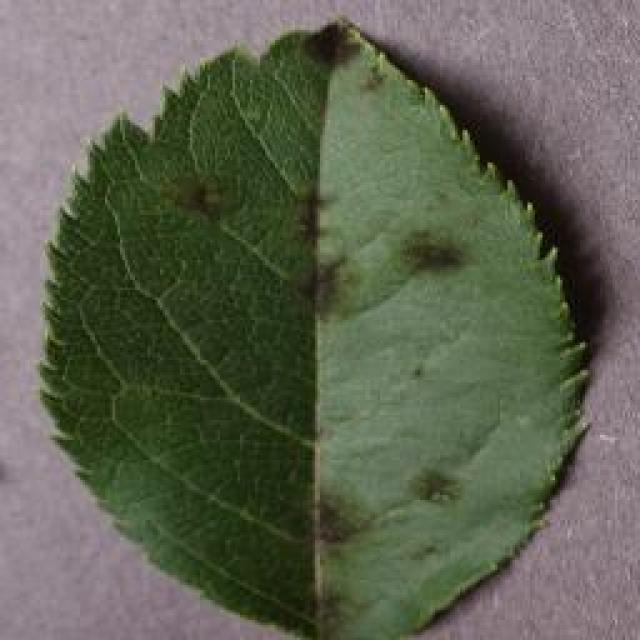App_scab: (264, 171, 470, 324), (303, 457, 467, 640), (160, 162, 246, 240)
